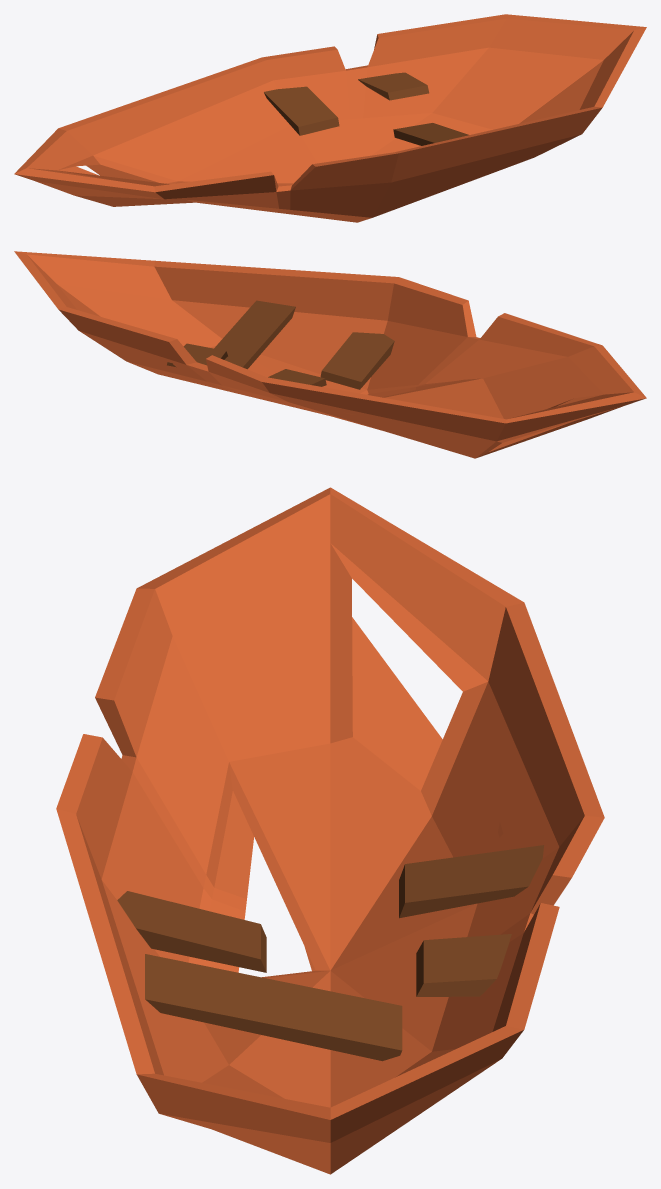
Rendered from Boat.fbx.
The picture shows the model from 3 angles, top to bottom: view 1: azimuth 30°, elevation 25°; view 2: azimuth 150°, elevation 25°; view 3: azimuth 270°, elevation 25°; orthographic projection. The views are drawn at different scales.
Visible parts, largest first — view 1: Cylinder.116; view 2: Cylinder.116; view 3: Cylinder.116.
Part boxes in pixels (x1,y1,x2,y2): Cylinder.116: [14, 14, 646, 222]; Cylinder.116: [14, 251, 646, 458]; Cylinder.116: [56, 487, 604, 1174].
Size of the model in its own units: 1199 by 3194 by 526.
